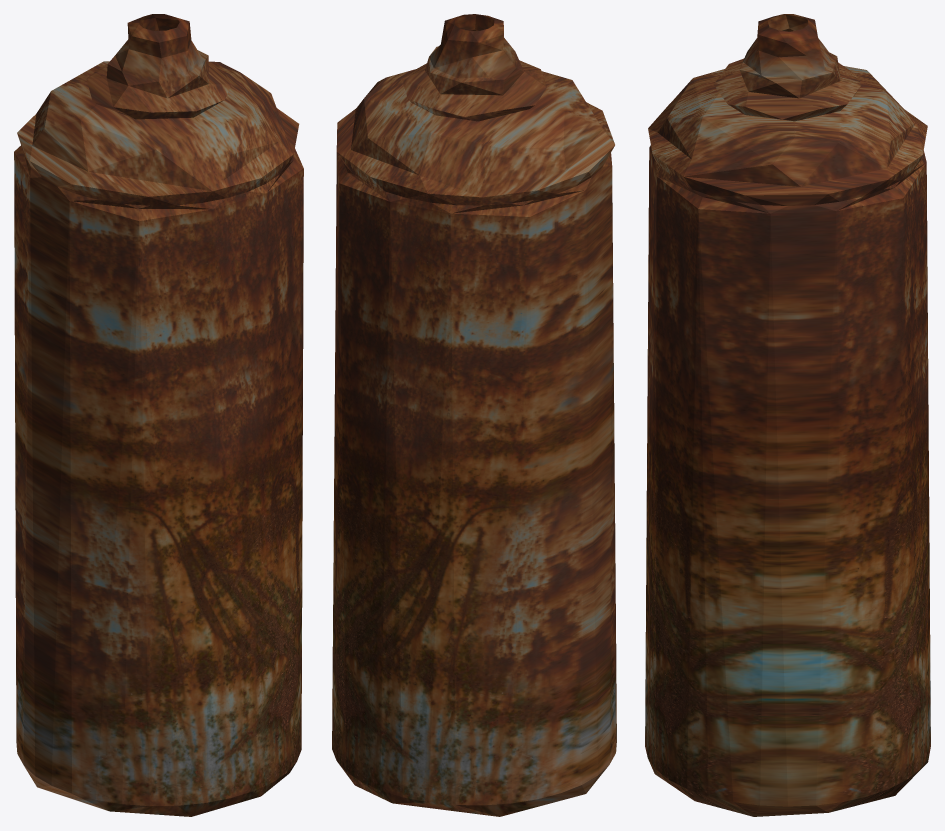
The model's file is Rush steel spray .fbx.
3 views of the same model, side by side, from view 1: azimuth 30°, elevation 25°; view 2: azimuth 150°, elevation 25°; view 3: azimuth 270°, elevation 25° (orthographic).
Parts seen in each view (by area): view 1: Rush steel spray; view 2: Rush steel spray; view 3: Rush steel spray.
Boxes of the visible parts, box(x1,y1,x2,y2) form: Rush steel spray: box(14, 14, 303, 816); Rush steel spray: box(332, 14, 616, 816); Rush steel spray: box(645, 14, 930, 816).
Bounding box in the file's own units: 11.61 × 33.21 × 11.61.
